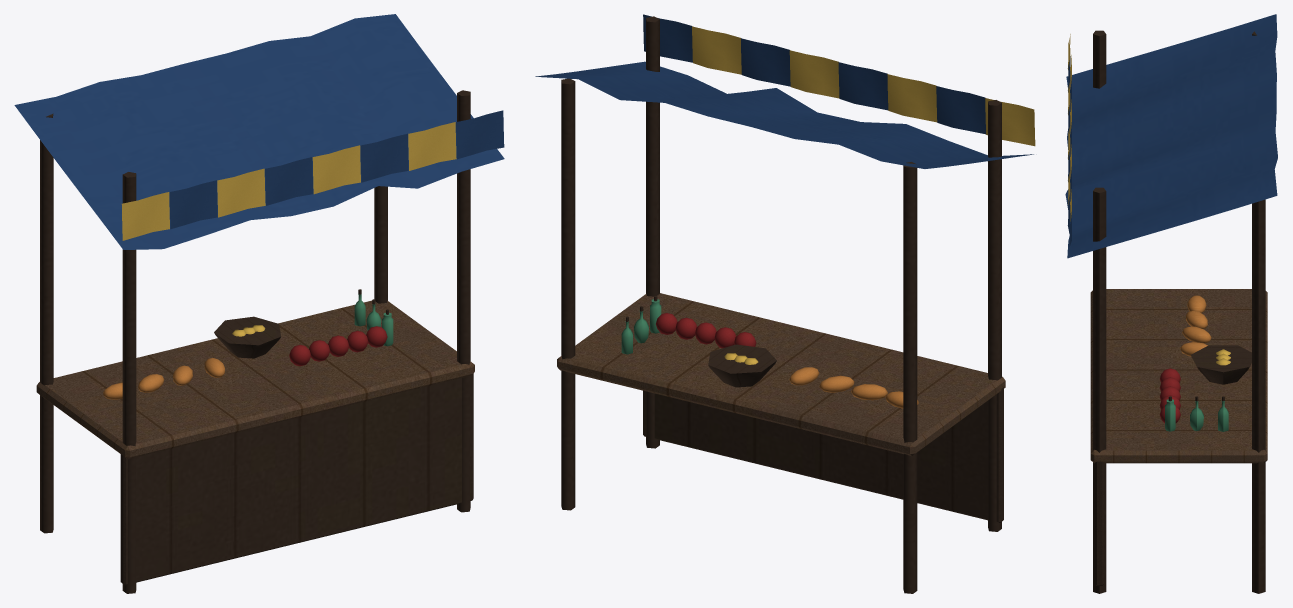
Rendered from market_stall_lod1.glb.
3 renders of one model, left to right at view 1: azimuth 30°, elevation 25°; view 2: azimuth 150°, elevation 25°; view 3: azimuth 270°, elevation 25°, orthographic. The views are drawn at different scales.
Parts seen in each view (by area): view 1: market_stall; view 2: market_stall; view 3: market_stall.
Boxes of the visible parts, bbox=[...] form: market_stall: bbox=[14, 14, 504, 593]; market_stall: bbox=[535, 14, 1035, 593]; market_stall: bbox=[1065, 14, 1277, 593].
Size of the model in its own units: 2.4 by 2.58 by 1.2.
Materials: 1 (1 with a texture image).
